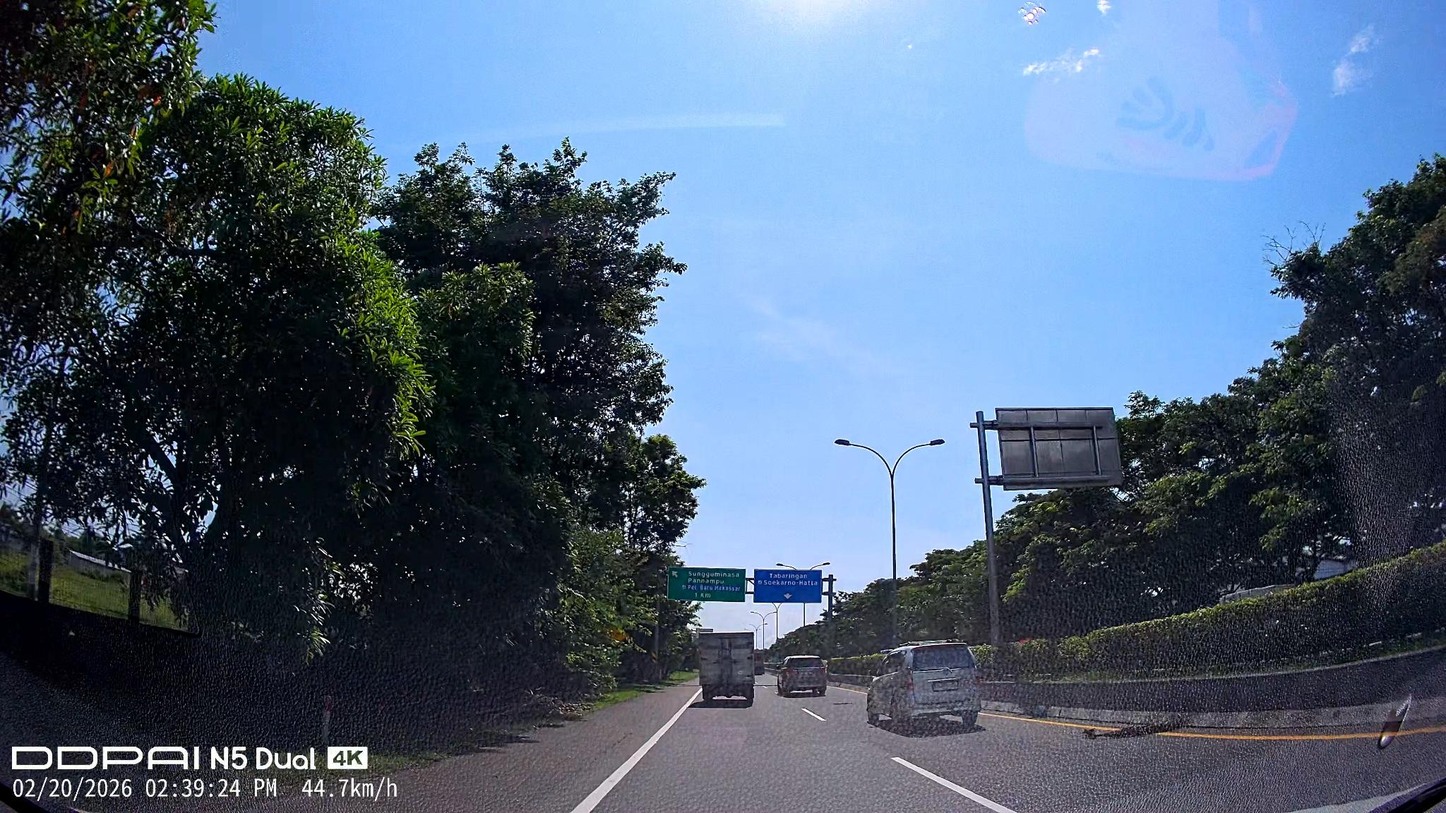rambu_teks: (667, 566, 747, 603), (753, 568, 822, 605)
